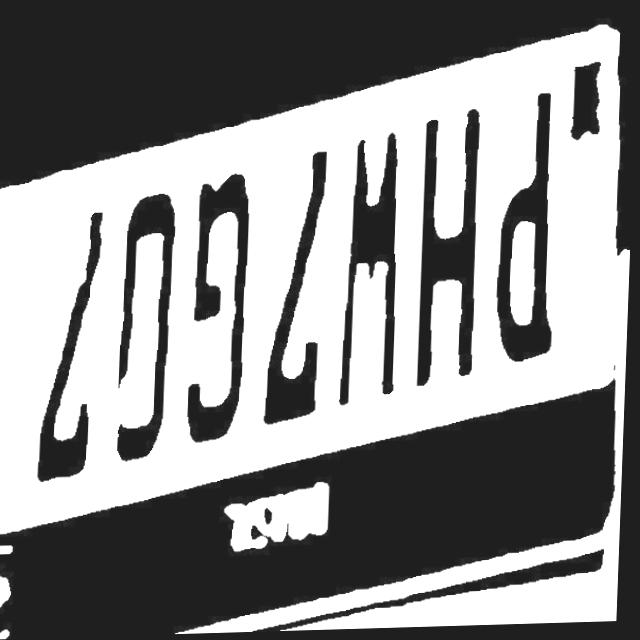0: (103, 186, 180, 469)
7: (23, 213, 110, 479), (259, 156, 334, 427)
g: (179, 164, 256, 442)
h: (411, 119, 489, 395)
p: (489, 96, 564, 372)
w: (332, 138, 410, 414)
